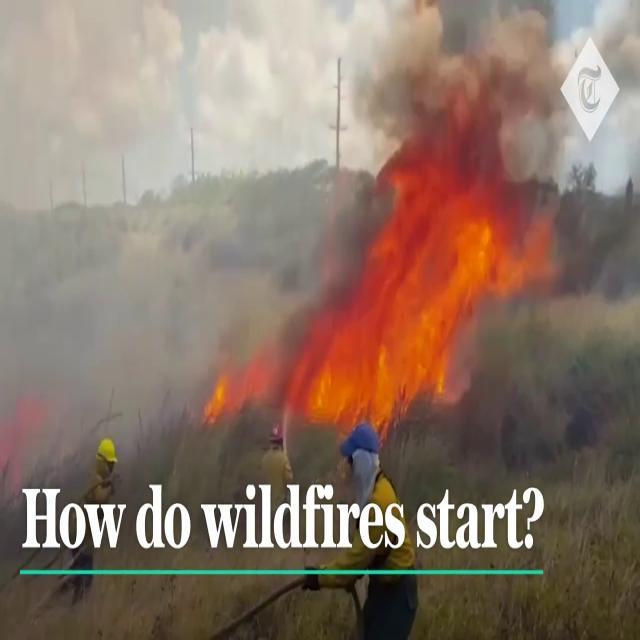Fire: (298, 160, 551, 430), (202, 338, 268, 428)
Smoke: (0, 3, 198, 457), (346, 2, 572, 184)
